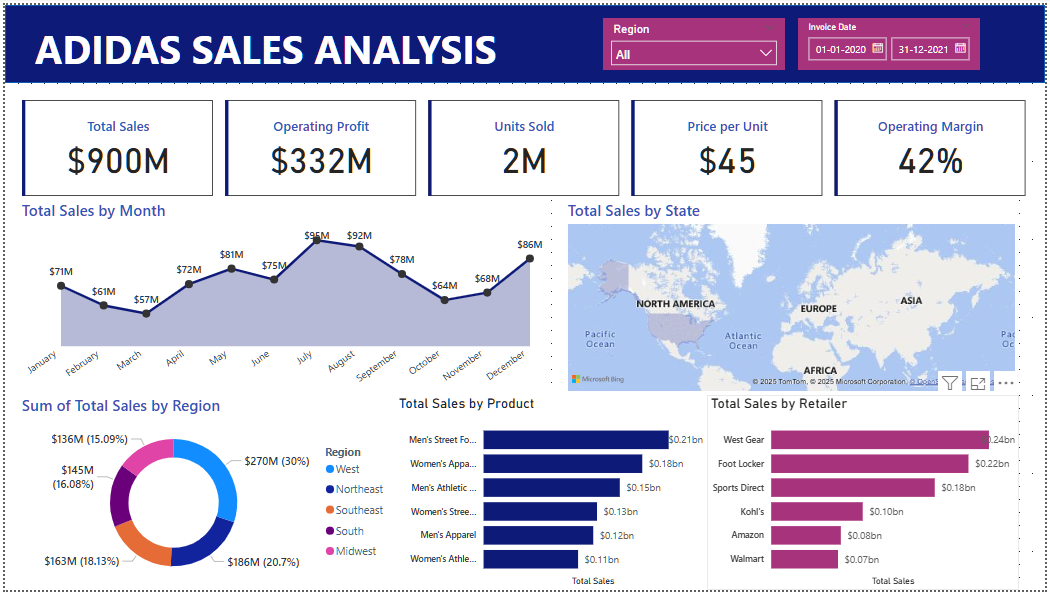

Layout of this report page (visuals, bound fields, positions):
{"tool":"powerbi","page":{"name":"Page 1","canvas":[1280,720],"ordinal":0},"visuals":[{"type":"shape","box":[0,0,1280,96],"z":0},{"type":"textbox","box":[32,16,768,64],"z":1000},{"type":"cardVisual","fields":{"Data":["Sum(Data Sales Adidas.Total Sales)","Sum(Data Sales Adidas.Operating Profit)","Sum(Data Sales Adidas.Units Sold)","Avg(Data Sales Adidas.Price per Unit)","Avg(Data Sales Adidas.Operating Margin)"]},"box":[16,112,1248,128],"z":2000},{"type":"areaChart","title":"Total Sales by Month","fields":{"Category":["Data Sales Adidas.Invoice Date.Variation.Date Hierarchy.Month"],"Y":["Sum(Data Sales Adidas.Total Sales)"]},"box":[16,240,656,256],"z":3000},{"type":"filledMap","title":"Total Sales by State","fields":{"Category":["Data Sales Adidas.State"],"Y":["Sum(Data Sales Adidas.Total Sales)"]},"box":[688,240,560,240],"z":4000},{"type":"donutChart","fields":{"Category":["Data Sales Adidas.Region"],"Y":["Sum(Data Sales Adidas.Total Sales)"]},"box":[16,480,464,240],"z":5000},{"type":"barChart","fields":{"Category":["Data Sales Adidas.Product"],"Y":["Sum(Data Sales Adidas.Total Sales)"]},"box":[480,480,384,240],"z":6000},{"type":"barChart","fields":{"Y":["Sum(Data Sales Adidas.Total Sales)"],"Category":["Data Sales Adidas.Retailer"]},"box":[864,480,384,240],"z":7000},{"type":"slicer","fields":{"Values":["Data Sales Adidas.Region"]},"box":[736,16,224,64],"z":8000},{"type":"slicer","fields":{"Values":["Data Sales Adidas.Invoice Date"]},"box":[976,16,224,64],"z":9000}]}

Visuals, with their boxes in screenshot pixels (x1, y1, x2, y2), scaled from the page's 1280x720 canvas onto the 1050x595 screenshot:
shape: crop(0, 0, 1049, 79)
textbox: crop(26, 13, 656, 66)
cardVisual - Sum(Data Sales Adidas.Total Sales) x Sum(Data Sales Adidas.Operating Profit): crop(13, 93, 1037, 198)
"Total Sales by Month" areaChart: crop(13, 198, 551, 410)
"Total Sales by State" filledMap: crop(564, 198, 1024, 397)
donutChart - Data Sales Adidas.Region x Sum(Data Sales Adidas.Total Sales): crop(13, 397, 394, 594)
barChart - Data Sales Adidas.Product x Sum(Data Sales Adidas.Total Sales): crop(394, 397, 709, 594)
barChart - Sum(Data Sales Adidas.Total Sales) x Data Sales Adidas.Retailer: crop(709, 397, 1024, 594)
slicer - Data Sales Adidas.Region: crop(604, 13, 788, 66)
slicer - Data Sales Adidas.Invoice Date: crop(801, 13, 984, 66)
